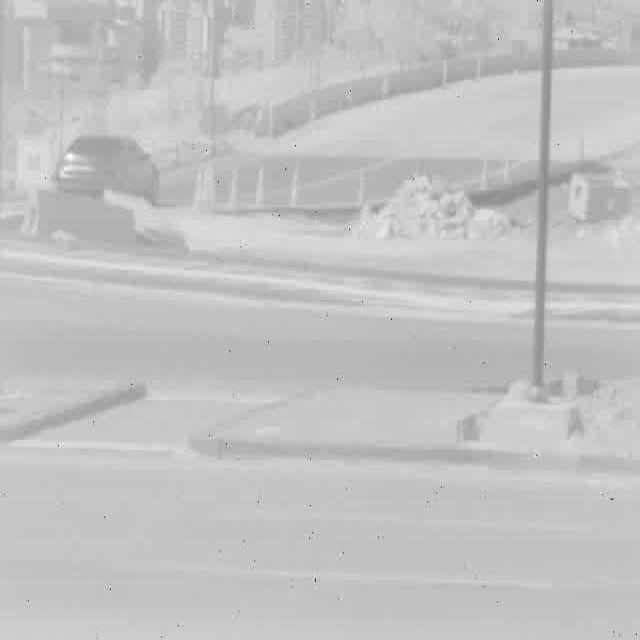Car: (58, 136, 160, 206)
